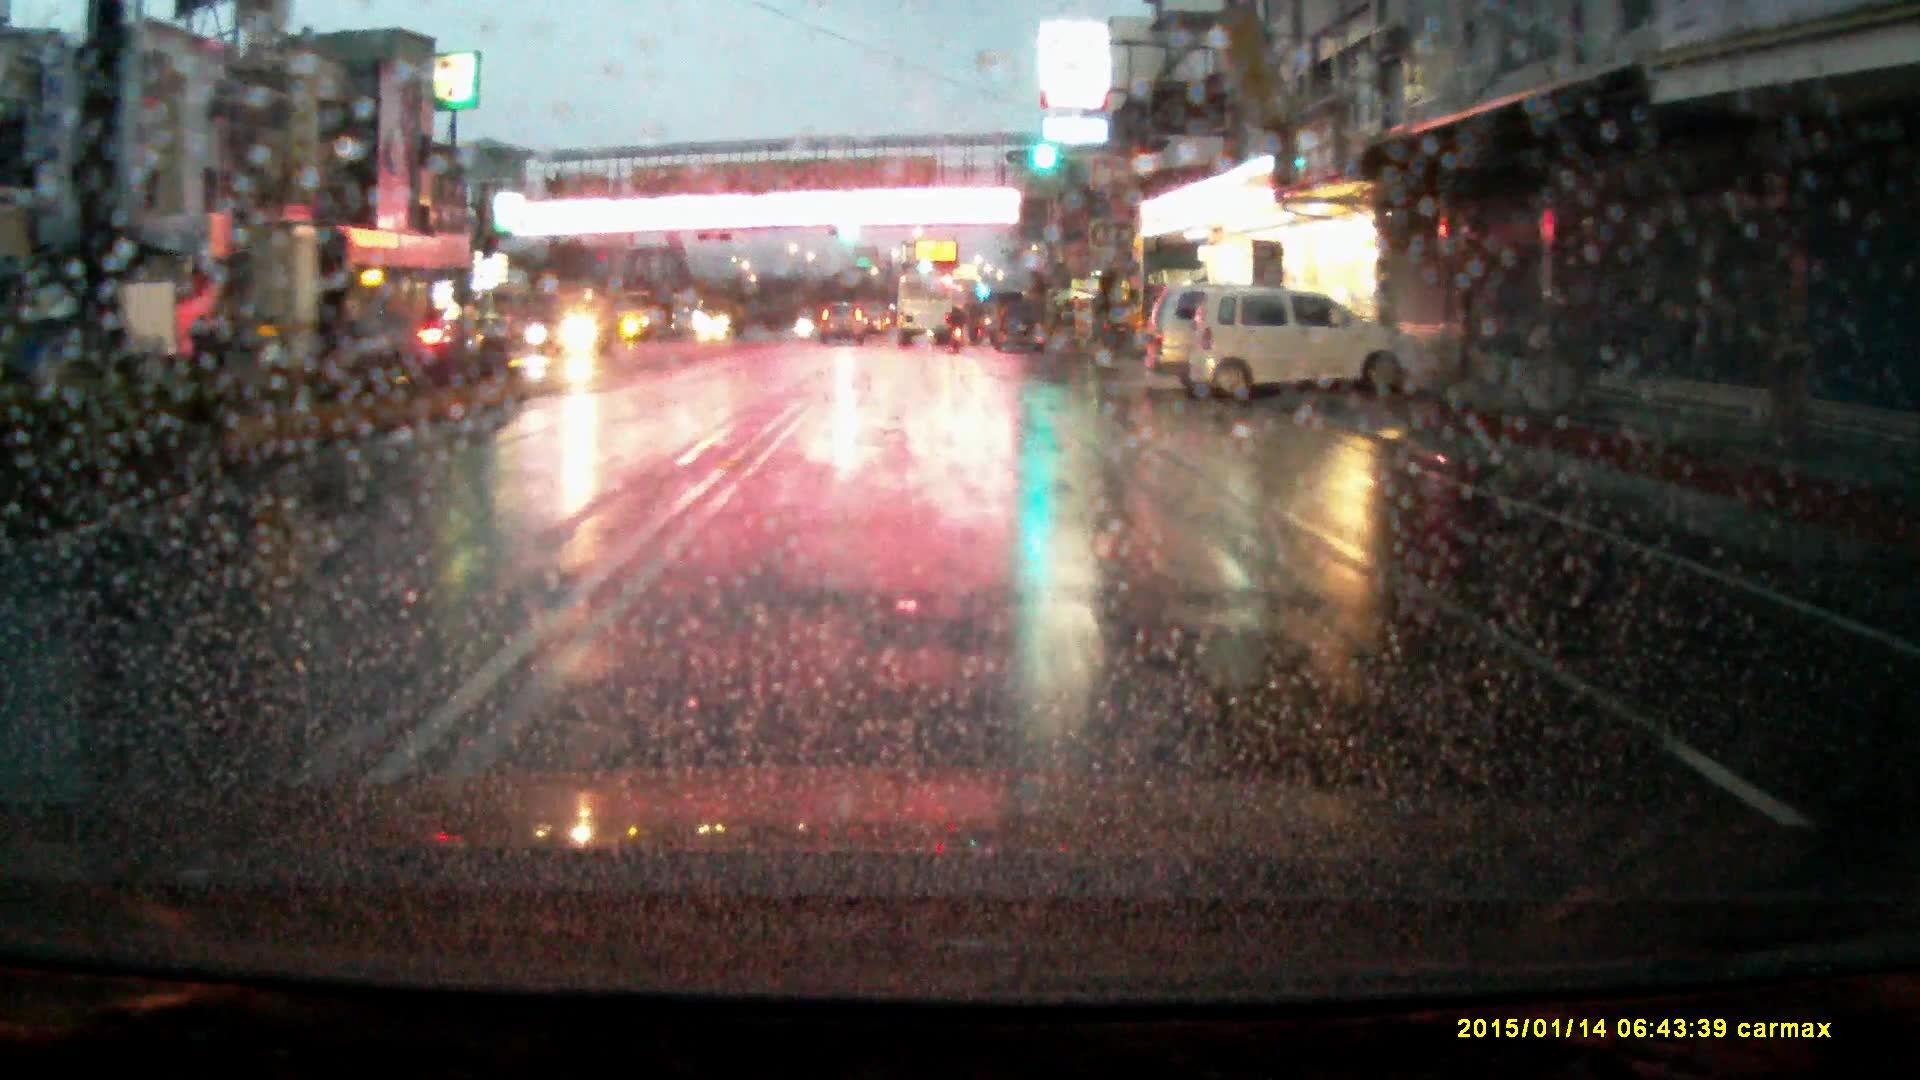rider: (947, 309, 968, 360)
vehicle: (1191, 293, 1433, 416), (1143, 287, 1292, 394), (29, 284, 181, 382), (524, 294, 619, 361), (898, 278, 952, 346), (989, 303, 1050, 357), (694, 299, 747, 341), (820, 304, 867, 348)
